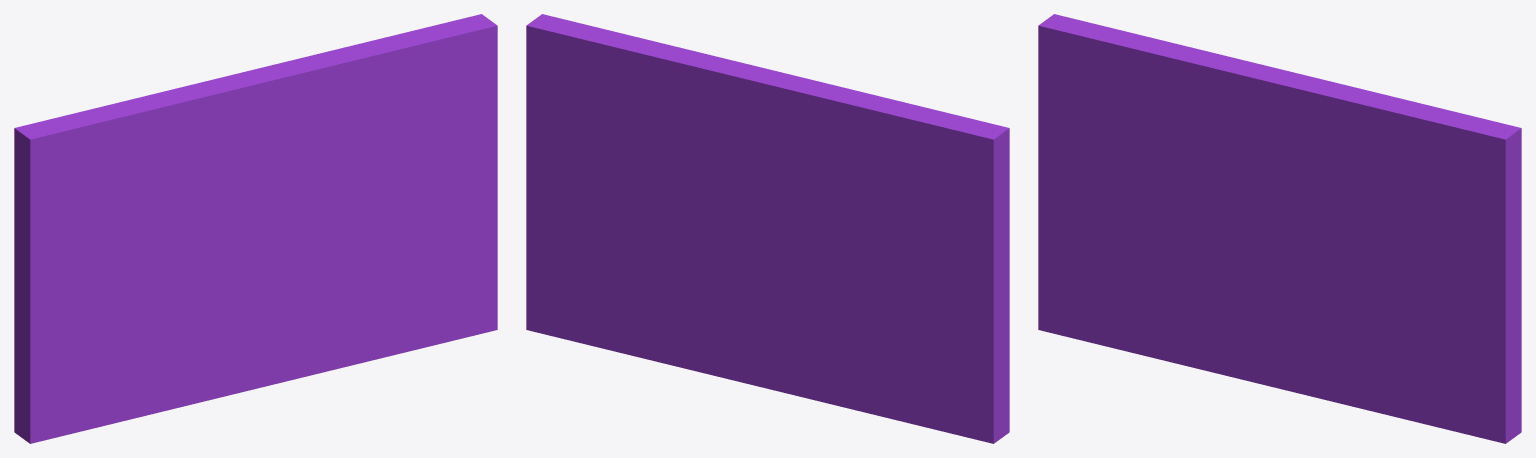
The model's file is Barrier_115_chunks.fbx.
The picture shows the model from 3 angles, left to right: view 1: azimuth 30°, elevation 25°; view 2: azimuth 150°, elevation 25°; view 3: azimuth 330°, elevation 25°; orthographic projection.
Visible parts, largest first — view 1: Barrier_115_1, Barrier_115_0, Barrier_115_5, Barrier_115_4, Barrier_115_3, Barrier_115_6; view 2: Barrier_115_1, Barrier_115_0, Barrier_115_5, Barrier_115_4, Barrier_115_2, Barrier_115_6; view 3: Barrier_115_1, Barrier_115_0, Barrier_115_5, Barrier_115_4, Barrier_115_3, Barrier_115_6.
Boxes of the visible parts, left/top/right/bottom form: Barrier_115_1: left=262, top=14, right=497, bottom=344; Barrier_115_0: left=14, top=65, right=287, bottom=390; Barrier_115_5: left=221, top=245, right=434, bottom=387; Barrier_115_4: left=14, top=331, right=171, bottom=443; Barrier_115_3: left=146, top=320, right=261, bottom=415; Barrier_115_6: left=121, top=238, right=273, bottom=338; Barrier_115_1: left=526, top=14, right=751, bottom=342; Barrier_115_0: left=735, top=65, right=1009, bottom=385; Barrier_115_5: left=580, top=247, right=817, bottom=395; Barrier_115_4: left=808, top=313, right=1009, bottom=443; Barrier_115_2: left=732, top=110, right=784, bottom=248; Barrier_115_6: left=765, top=248, right=883, bottom=322; Barrier_115_1: left=1271, top=77, right=1521, bottom=443; Barrier_115_0: left=1038, top=14, right=1312, bottom=276; Barrier_115_5: left=1229, top=250, right=1442, bottom=428; Barrier_115_4: left=1038, top=261, right=1179, bottom=358; Barrier_115_3: left=1155, top=293, right=1269, bottom=386; Barrier_115_6: left=1129, top=237, right=1281, bottom=299.
Bounding box in the file's own units: 462 × 288 × 27.2.
